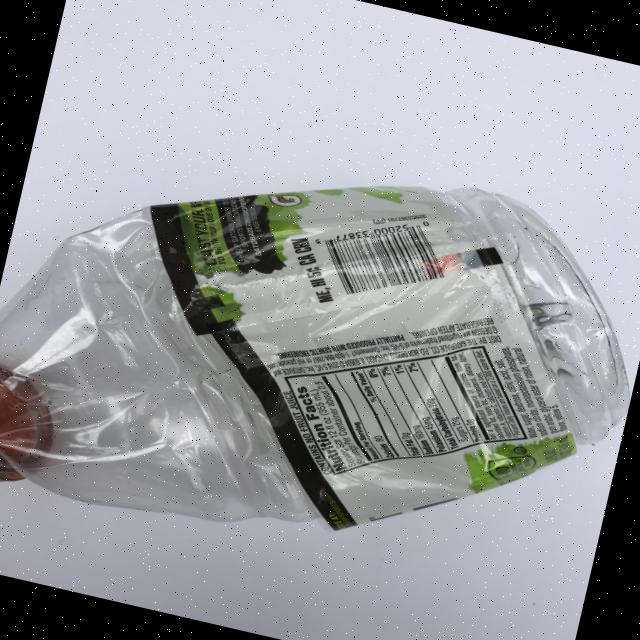plastic: (0, 86, 640, 626)
